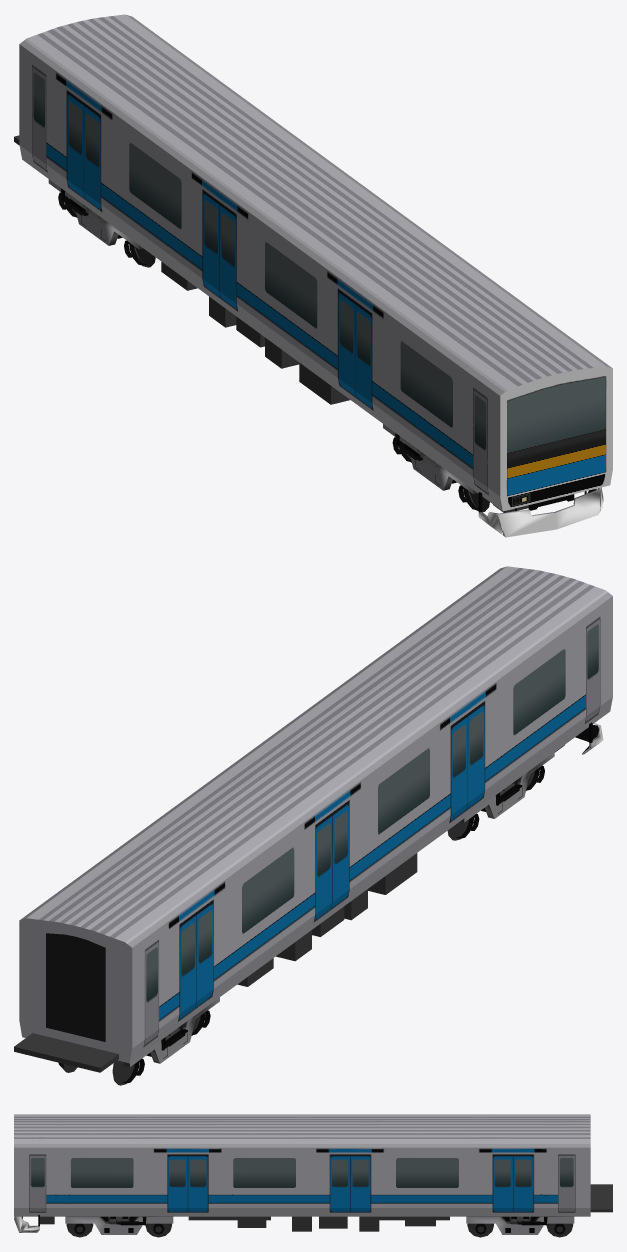
Rendered from Train_01.fbx.
The picture shows the model from 3 angles, top to bottom: view 1: azimuth 30°, elevation 25°; view 2: azimuth 150°, elevation 25°; view 3: azimuth 270°, elevation 25°; orthographic projection. The views are drawn at different scales.
Visible parts, largest first — view 1: Cylinder.001; view 2: Cylinder.001; view 3: Cylinder.001.
Boxes of the visible parts, x1=… form: Cylinder.001: x1=14, y1=14, x2=612, y2=537; Cylinder.001: x1=14, y1=566, x2=612, y2=1085; Cylinder.001: x1=14, y1=1114, x2=612, y2=1237.
Size of the model in its own units: 183 by 264 by 1400.
2 materials, 2 textured.
